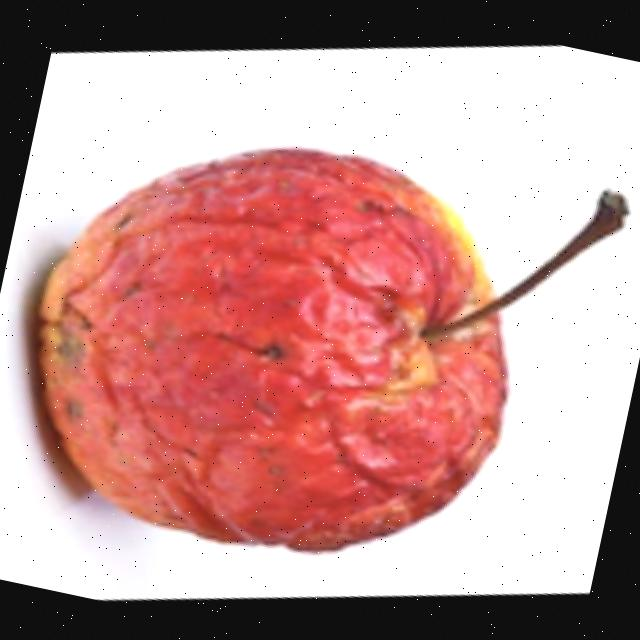overripe: (0, 85, 557, 600)
